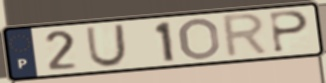1: (153, 19, 176, 64)
2: (43, 29, 80, 72)
O: (178, 17, 223, 62)
P: (268, 9, 311, 54)
R: (221, 11, 272, 60)
U: (84, 22, 129, 69)
